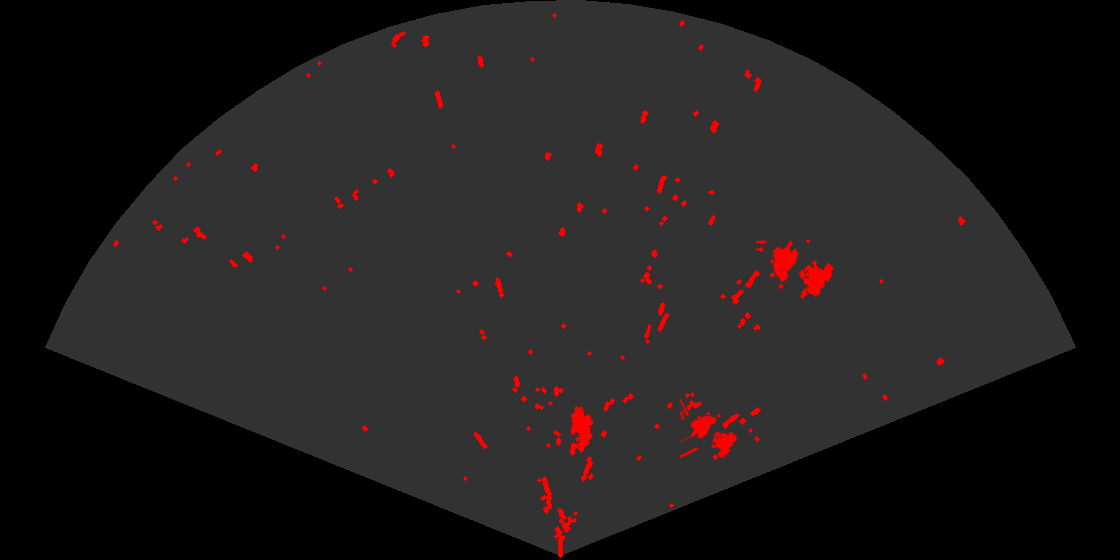AUV: (569, 404, 595, 455)
cage: (756, 240, 836, 298), (680, 396, 739, 460)
